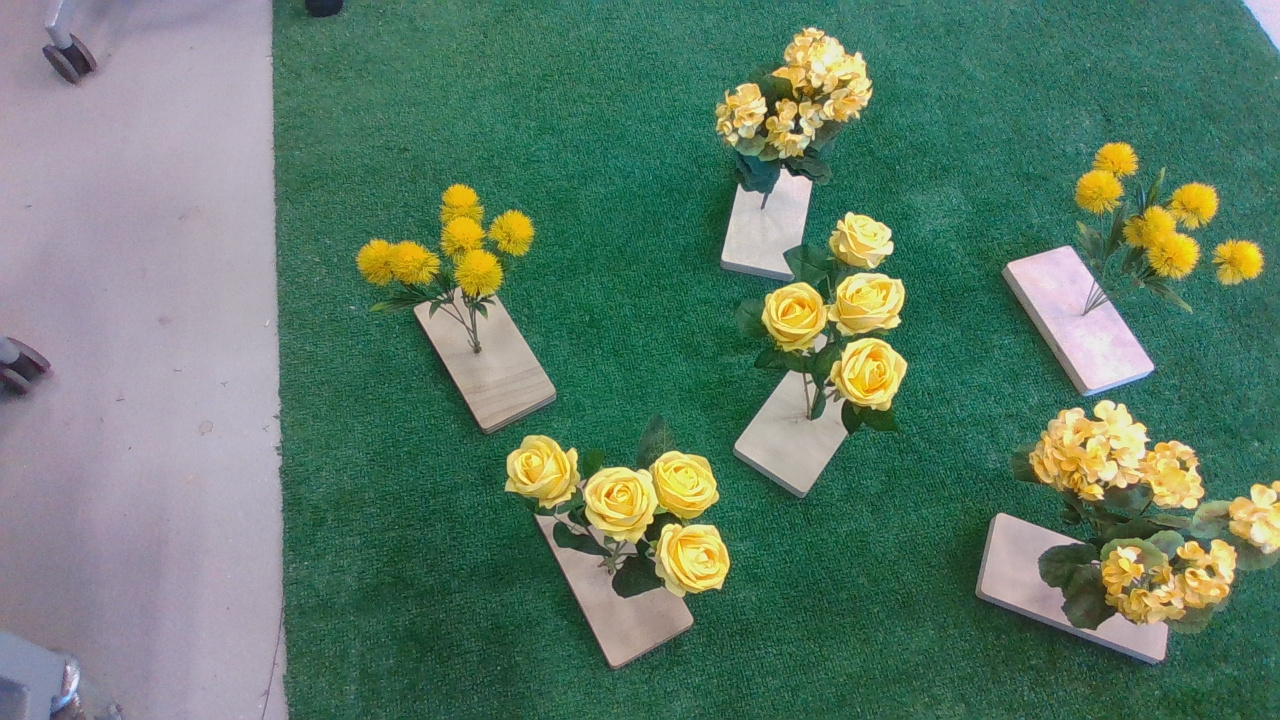dandelion: (1063, 134, 1277, 324), (348, 173, 543, 330)
geranium: (1000, 397, 1280, 646), (701, 26, 884, 200)
rose: (469, 422, 748, 607), (740, 208, 913, 449)
